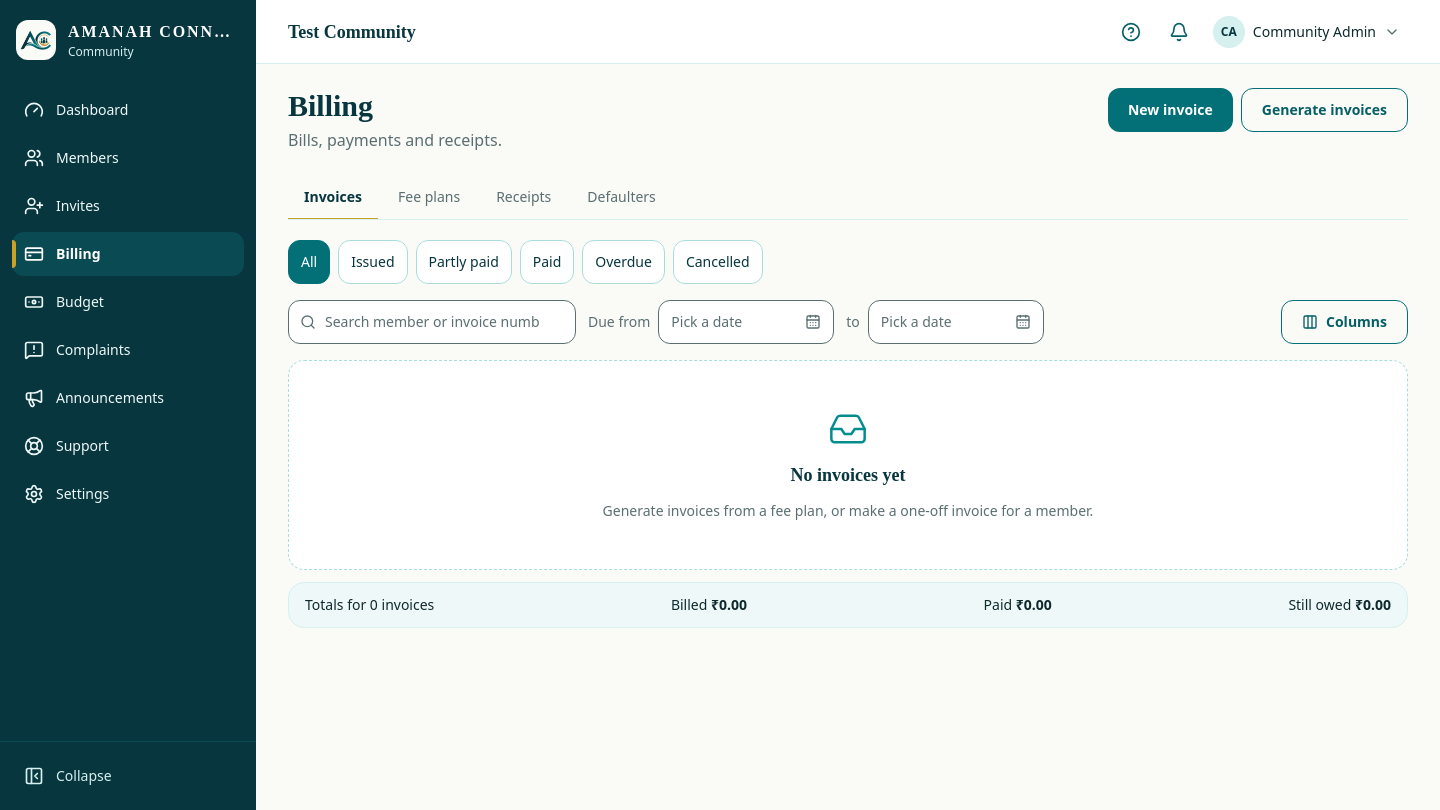
Test: generate invoices wizard › will not create anything when everyone is already billed
Click the button "Generate invoices" at (1324,110), box [1241,88,1408,132]
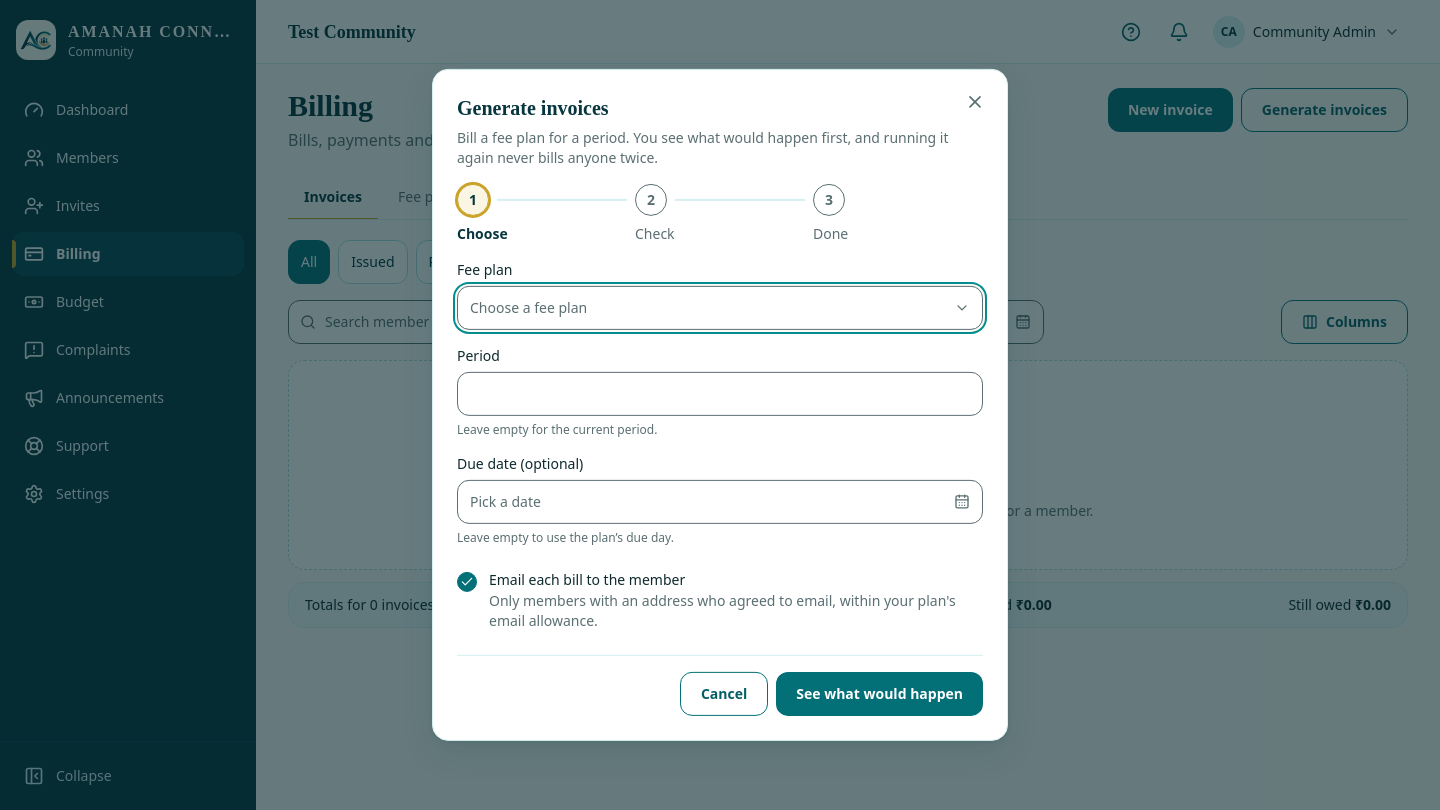
Click the dropdown labelled "fee plan" at (529,307), box [457,286,983,330]
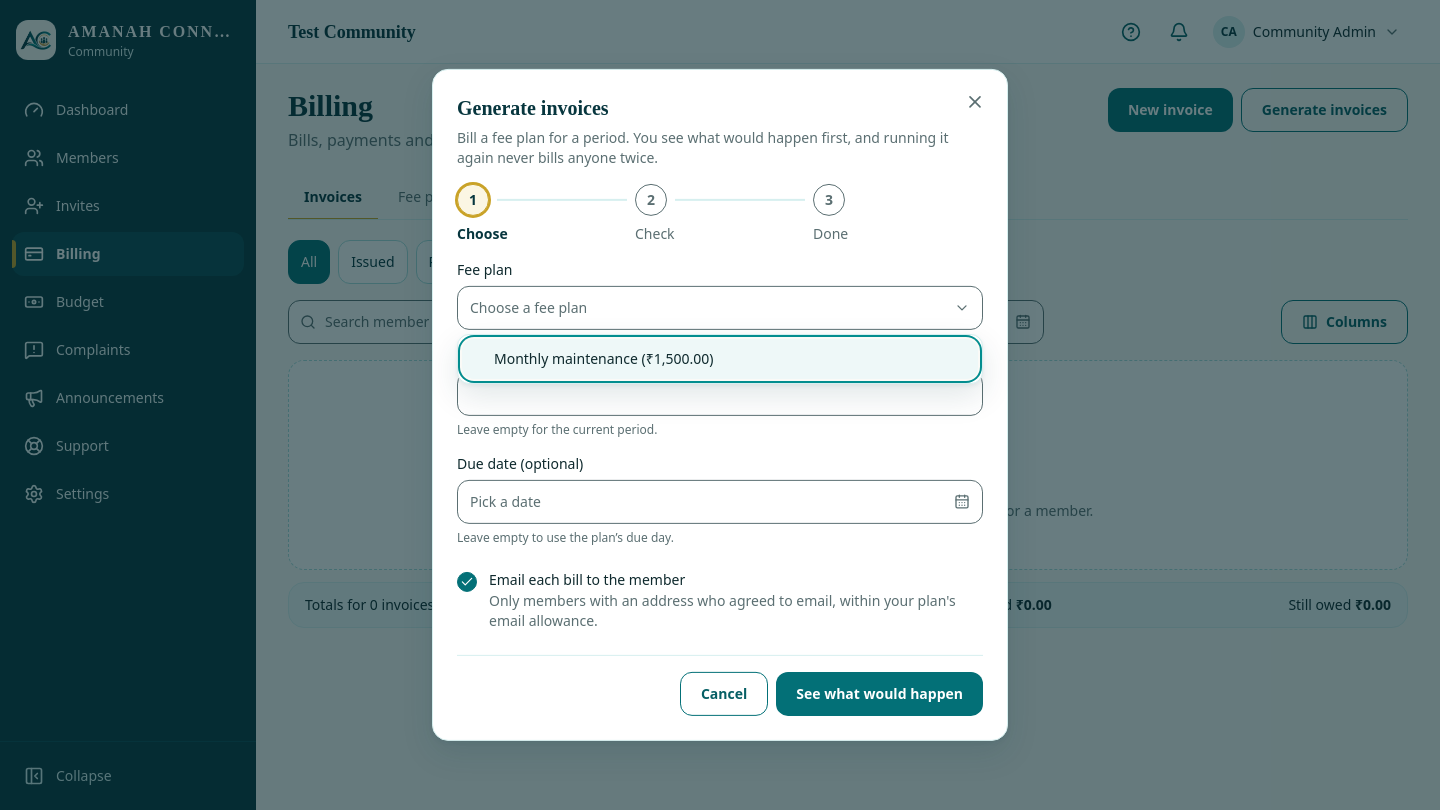
Click the option "Monthly maintenance (₹1,500.00)" at (604,358), box [462,339,978,379]
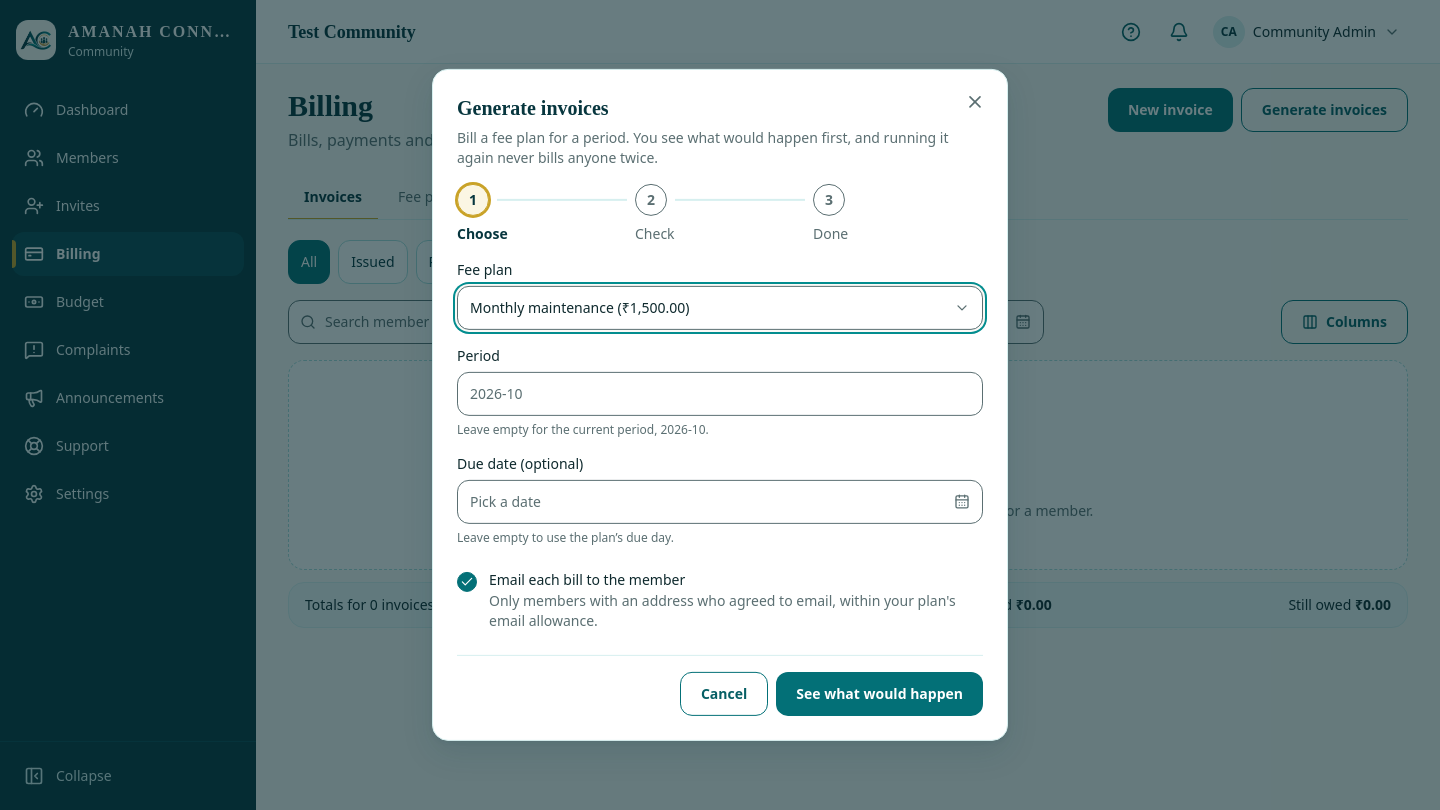
Click the button "See what would happen" at (880,694), box [776,672,983,716]
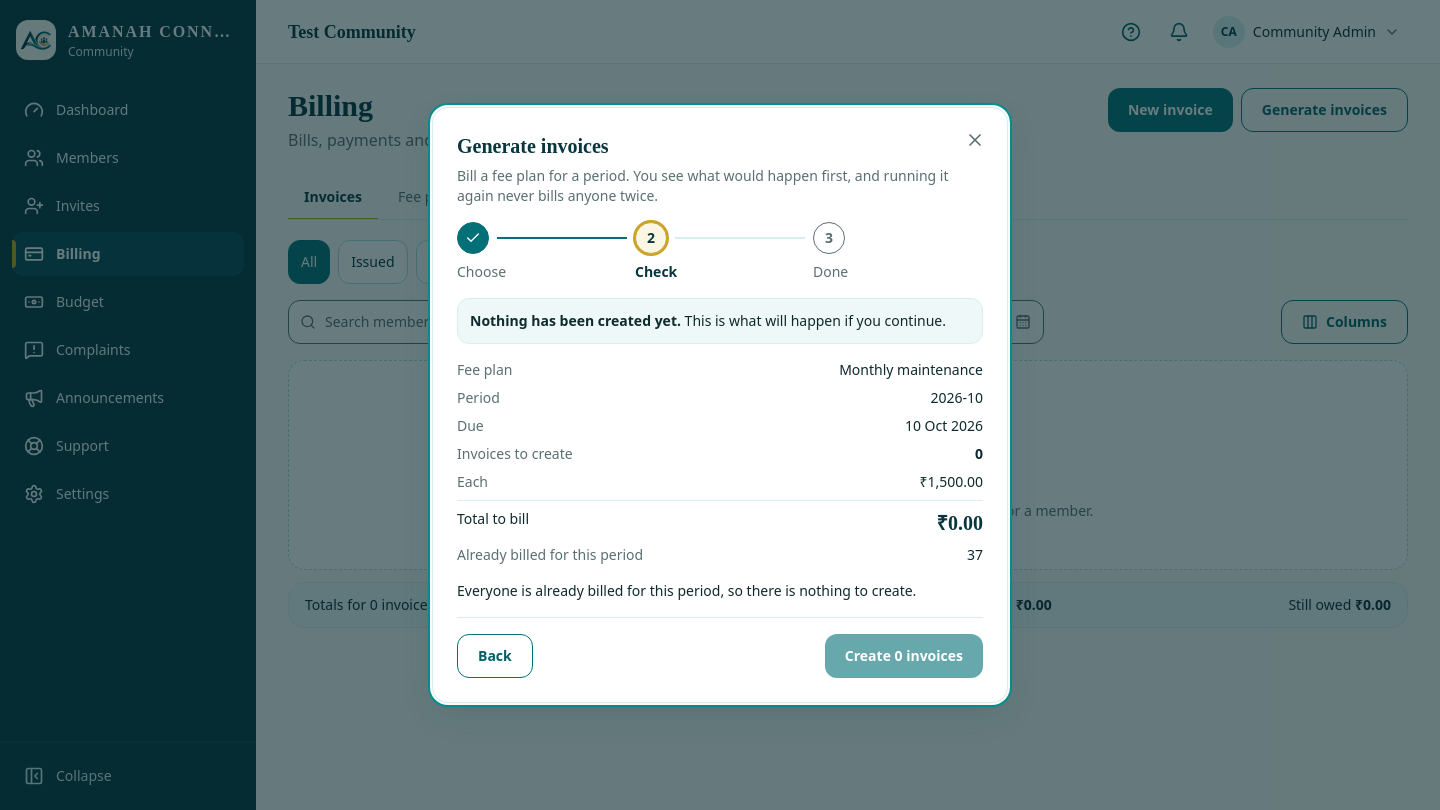
Result: the text "Everyone is already billed for this period, so there is nothing to create." is shown at [457,581,983,601]
Result: the button "Create 0 invoices" is disabled at [825,634,983,678]
